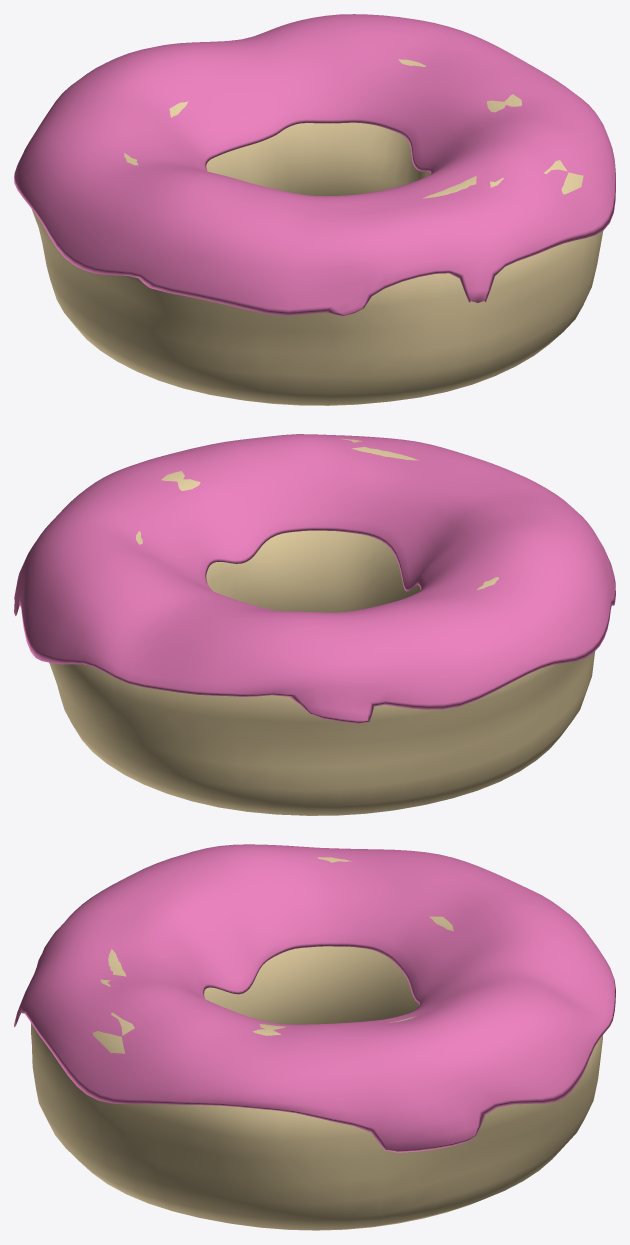
Rendered from donut.glb.
3 renders of one model, top to bottom at view 1: azimuth 30°, elevation 25°; view 2: azimuth 150°, elevation 25°; view 3: azimuth 270°, elevation 25°, orthographic.
Parts seen in each view (by area): view 1: Icing, Donut; view 2: Icing, Donut; view 3: Icing, Donut.
Part boxes in pixels (left/top/right/bottom): Icing: left=14, top=14, right=615, bottom=315; Donut: left=32, top=59, right=603, bottom=405; Icing: left=14, top=434, right=615, bottom=723; Donut: left=49, top=438, right=594, bottom=815; Icing: left=14, top=844, right=615, bottom=1152; Donut: left=31, top=857, right=602, bottom=1230.
Size of what is drawn, in the model's own units: 1.44 by 0.5367 by 1.45.
